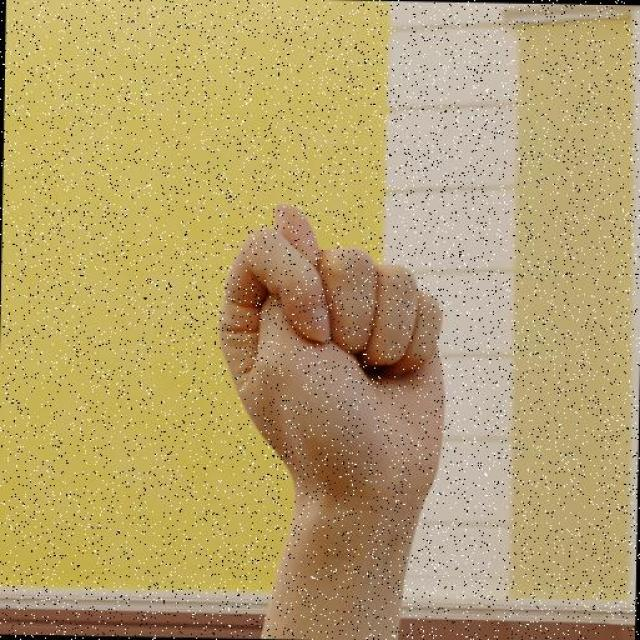T: (210, 194, 454, 508)
